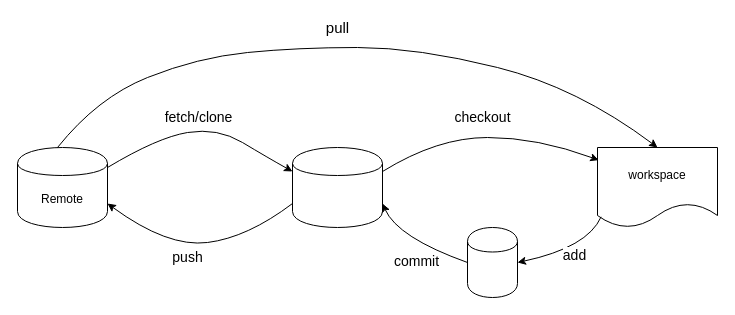
Image size: 735x315. Some labels were removed from this diagram. The shapes that lost their labels are listed below. From the top down, each one's centre as x and y in pixels, then its label:
[337,187]: Repository
[492,262]: Index Stage
